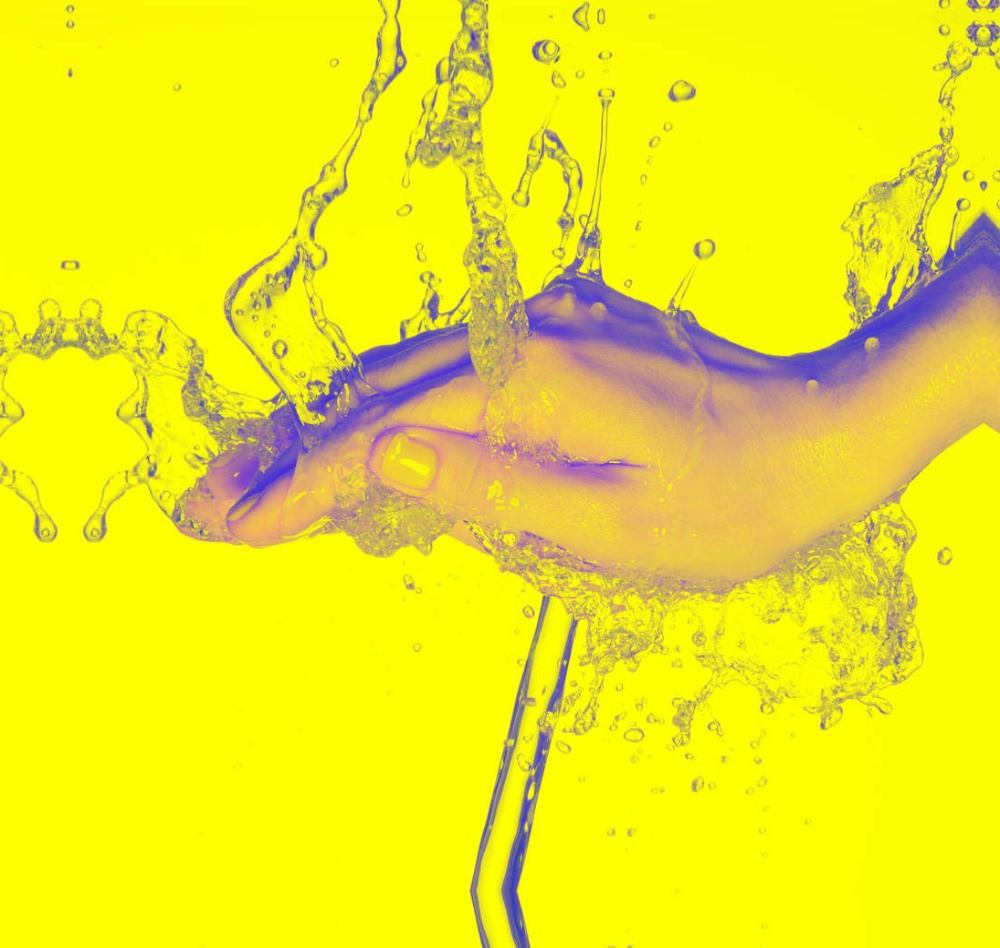washing hand: (107, 88, 955, 851)
